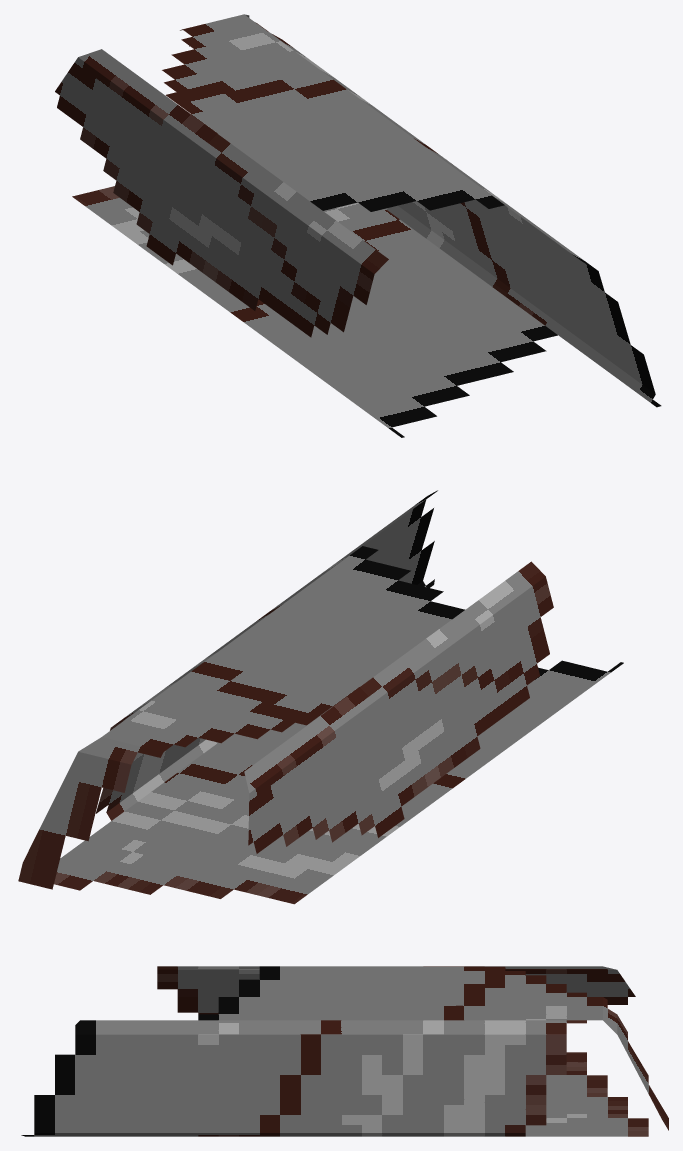
The model's file is iron_ingot.fbx.
3 renders of one model, top to bottom at view 1: azimuth 30°, elevation 25°; view 2: azimuth 150°, elevation 25°; view 3: azimuth 270°, elevation 25°, orthographic. The views are drawn at different scales.
Visible parts, largest first — view 1: iron_ingot; view 2: iron_ingot; view 3: iron_ingot.
Boxes of the visible parts, left/top/right/bottom form: iron_ingot: left=55, top=14, right=661, bottom=437; iron_ingot: left=18, top=490, right=623, bottom=904; iron_ingot: left=21, top=966, right=668, bottom=1136.
Bounding box in the file's own units: 13.41 × 7.17 × 42.13.
